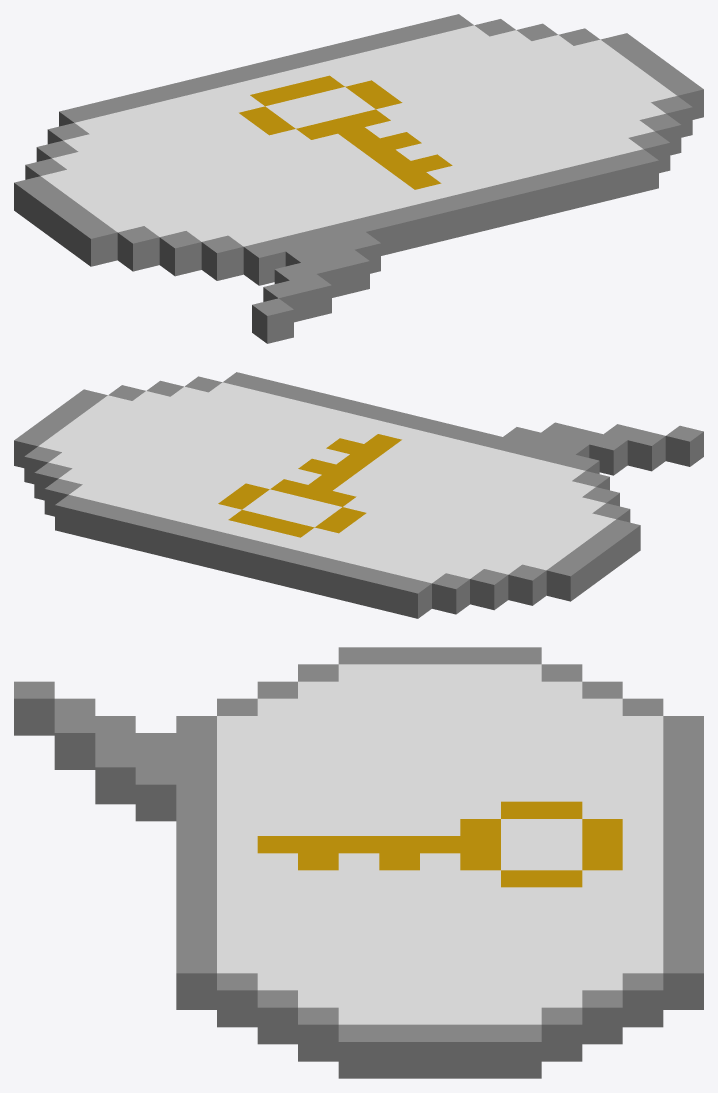
Rendered from 钥匙提示板.FBX.
3 renders of one model, top to bottom at view 1: azimuth 30°, elevation 25°; view 2: azimuth 150°, elevation 25°; view 3: azimuth 270°, elevation 25°, orthographic. The views are drawn at different scales.
Visible parts, largest first — view 1: default; view 2: default; view 3: default.
Part boxes in pixels (x1,y1,x2,y2): default: [14, 14, 703, 343]; default: [14, 372, 703, 618]; default: [14, 647, 703, 1078].
Bounding box in the file's own units: 23 × 1 × 17.
